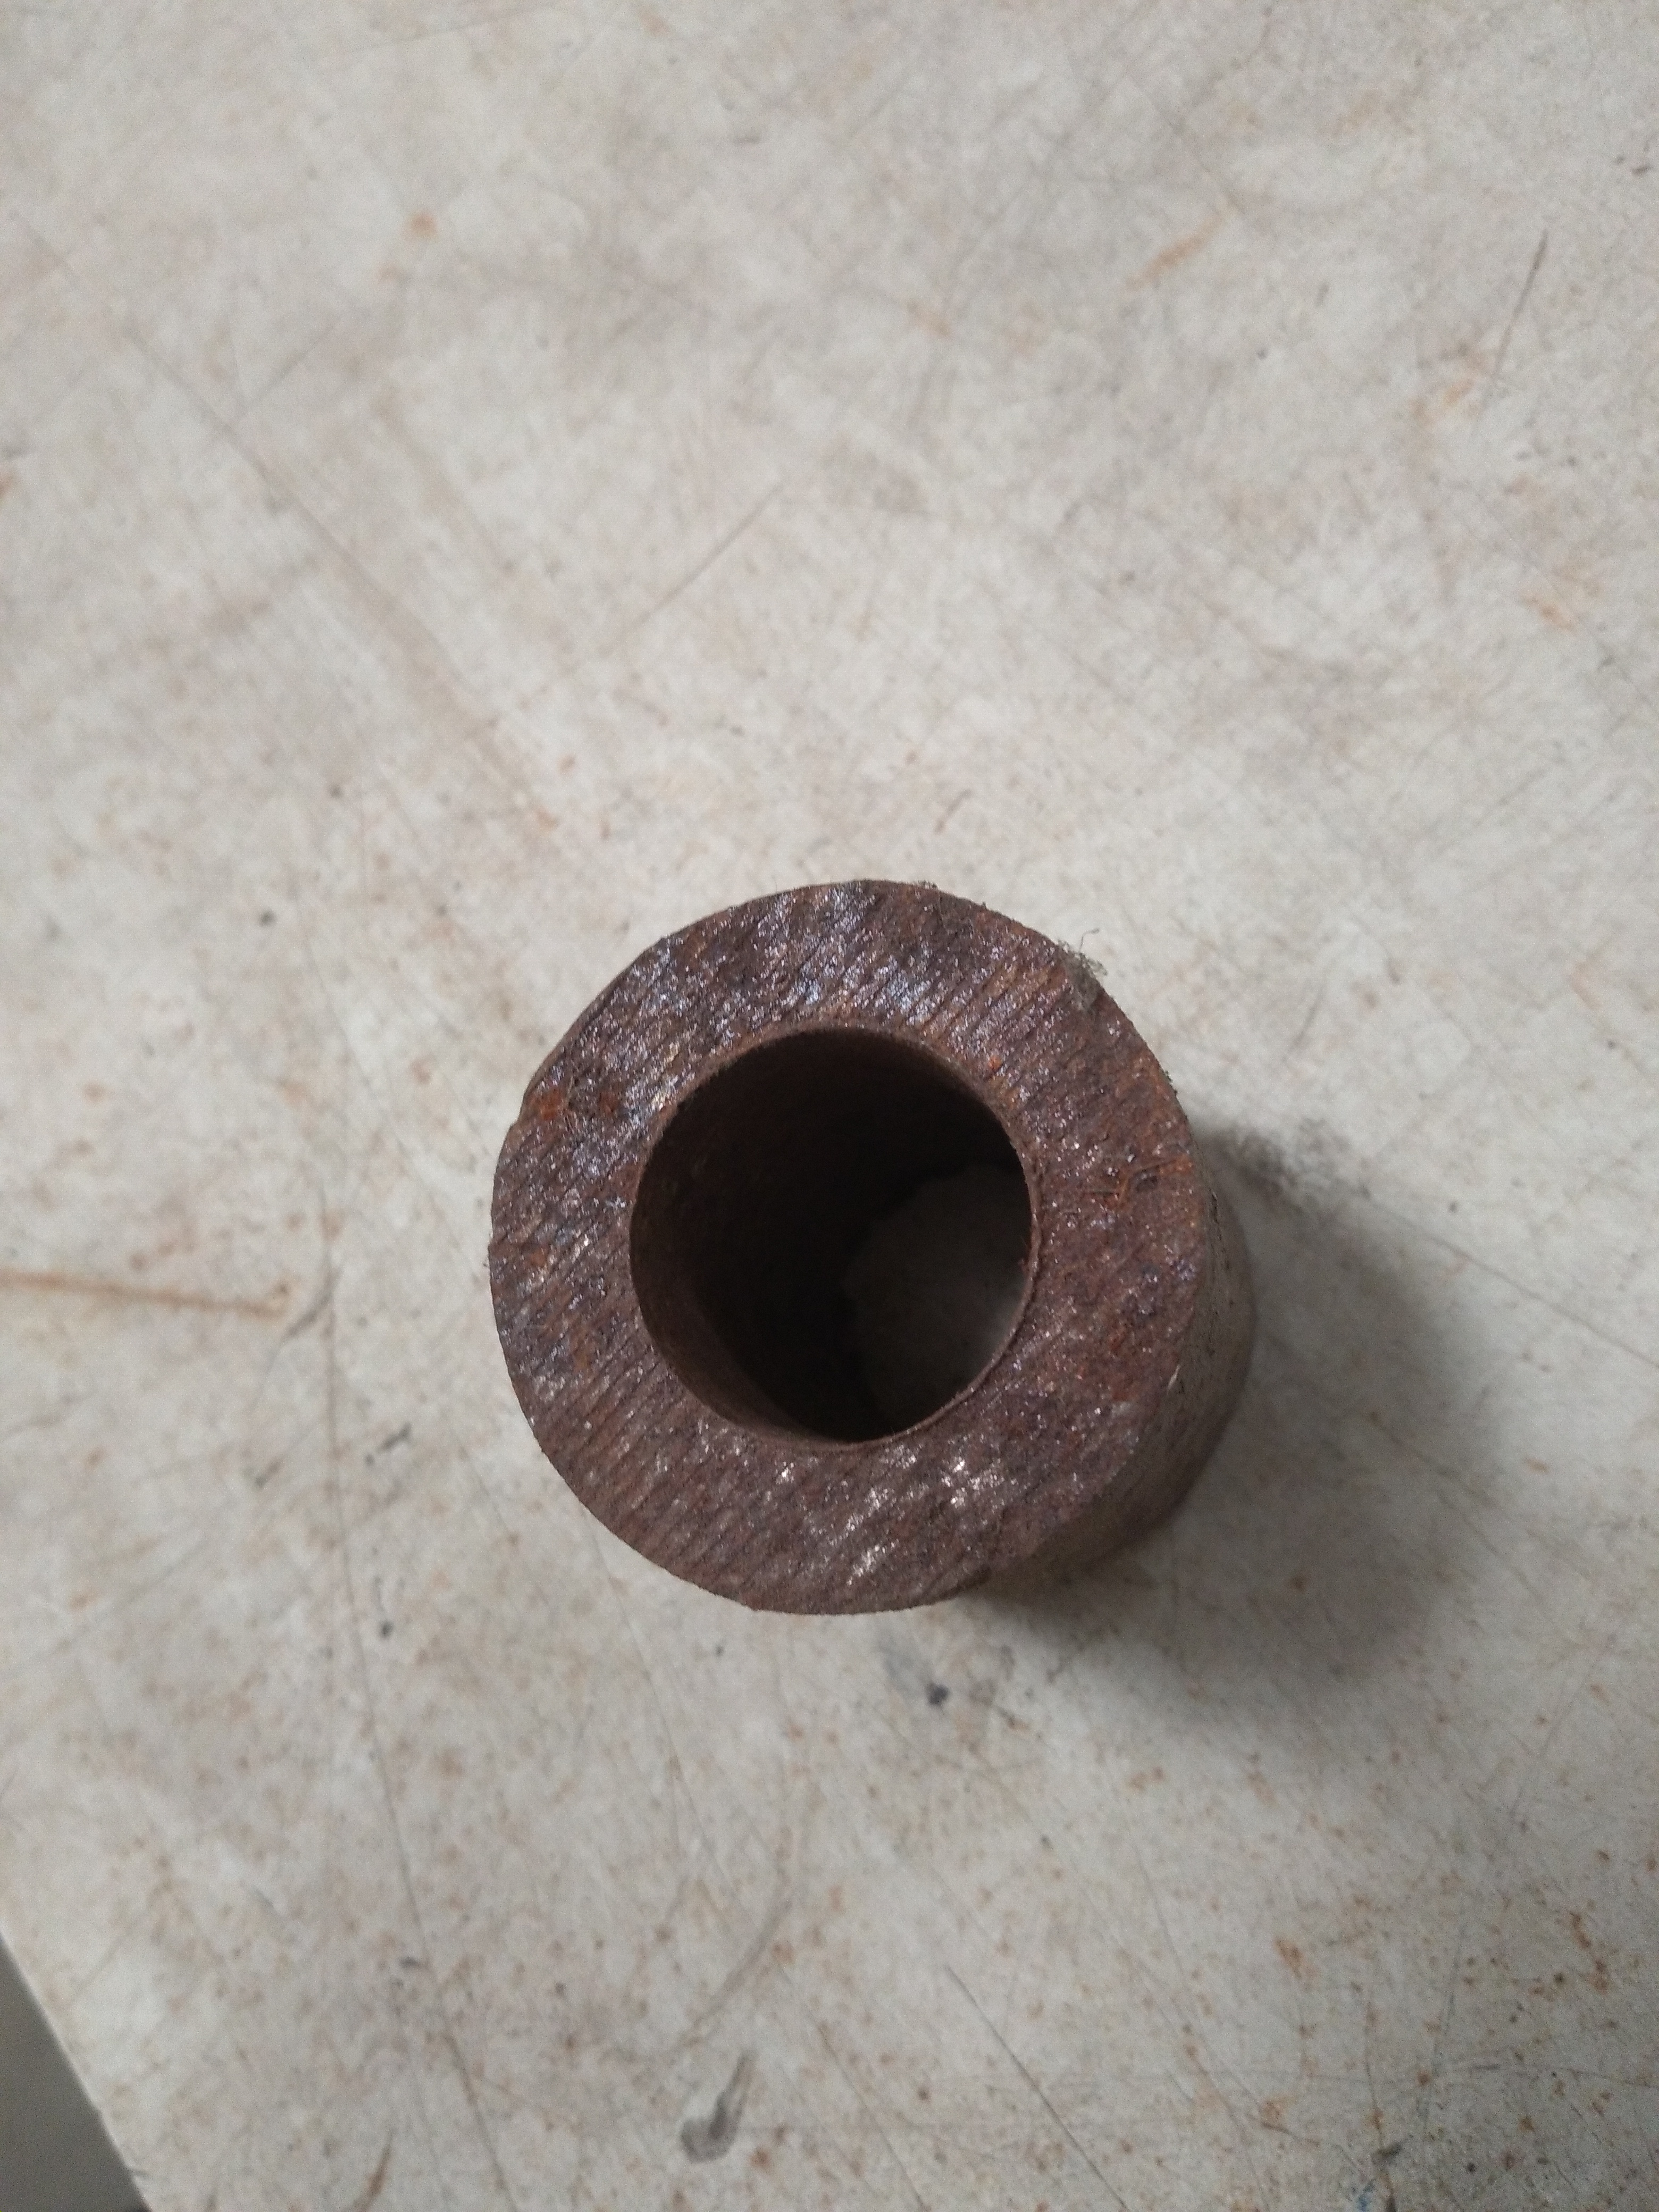No thread: (615, 1012, 1094, 1475)
